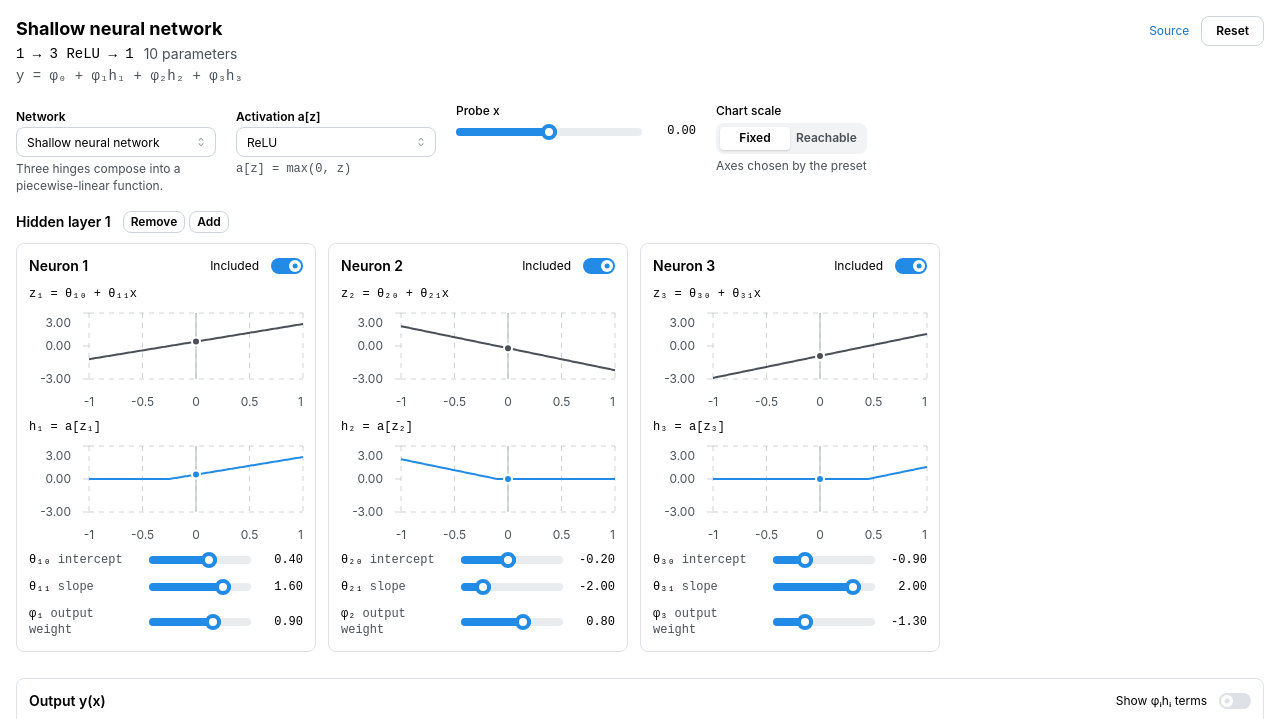
Scenario: the preset selector starts a fresh exploration of the chosen network
Click the slider named "θ₁₀ — intercept" at coordinates (209, 560), box [201, 552, 217, 568]
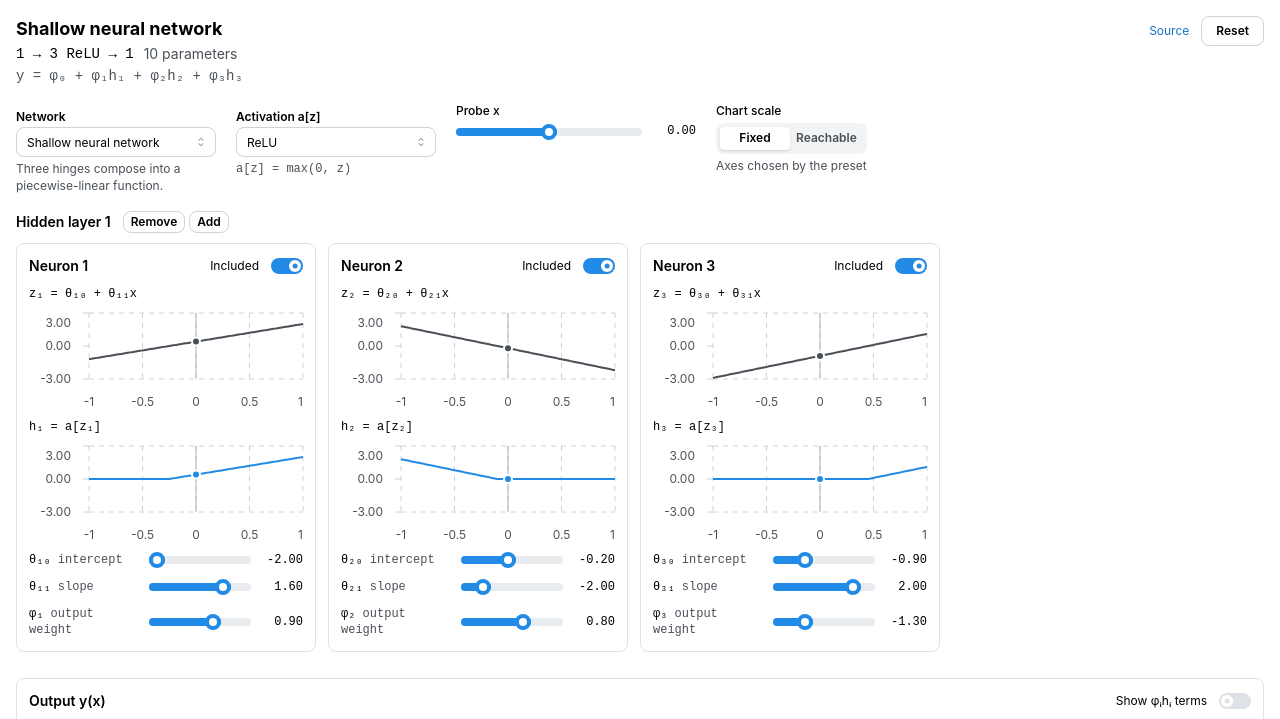
Press Arrowright Arrowright
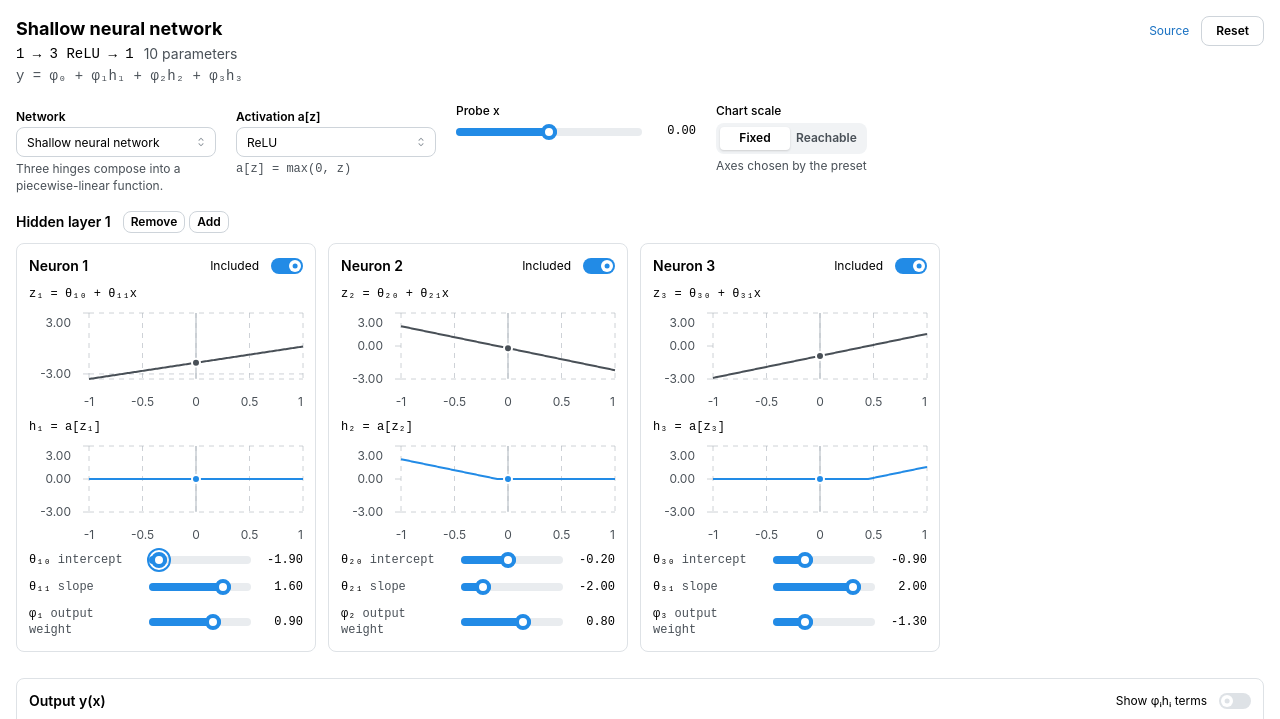
Click the switch named "Neuron 1 included" at coordinates (257, 266), box [210, 258, 303, 274]
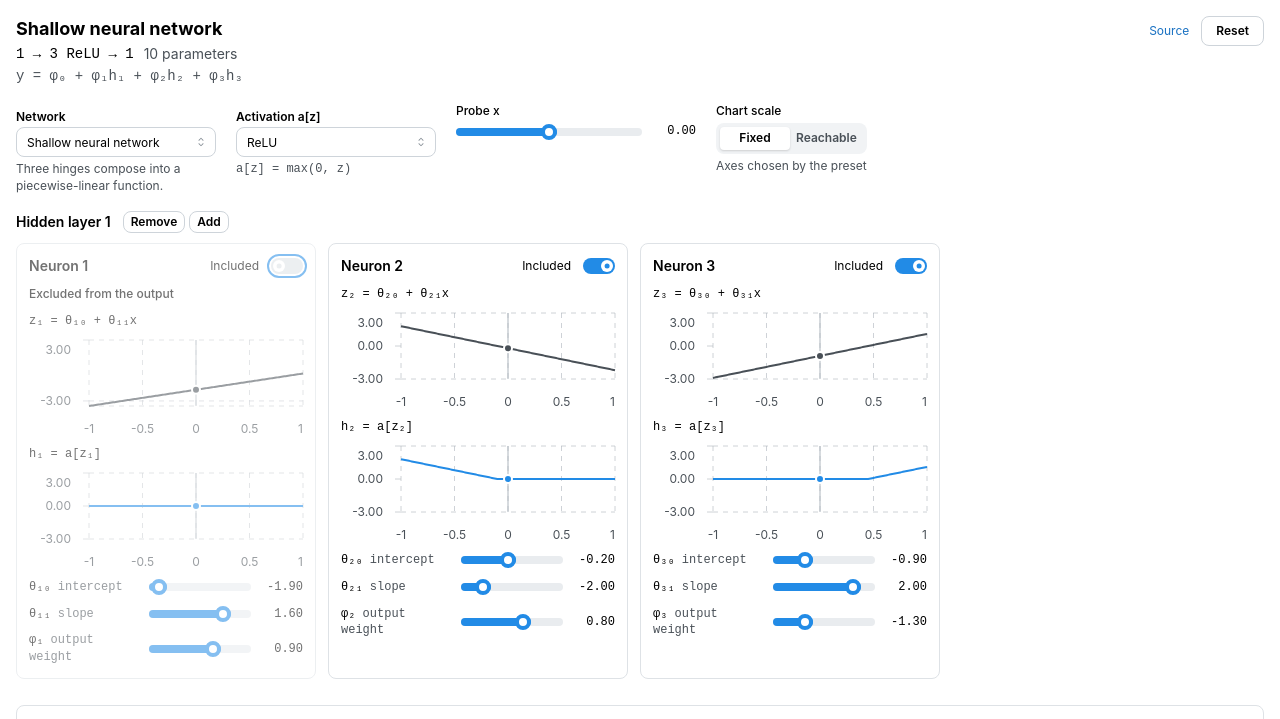
Click the dropdown labelled "Network" at coordinates (116, 142), box [16, 128, 216, 158]
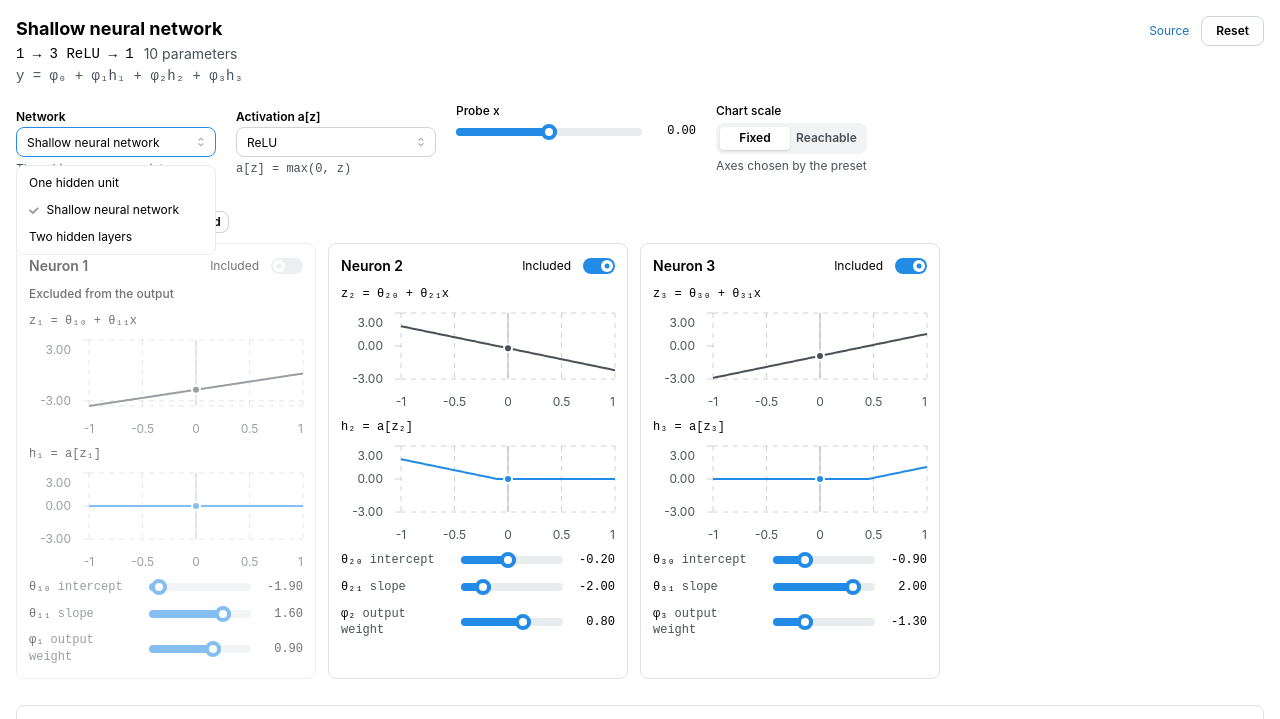
Click the option "One hidden unit" at coordinates (74, 183), box [29, 176, 119, 190]
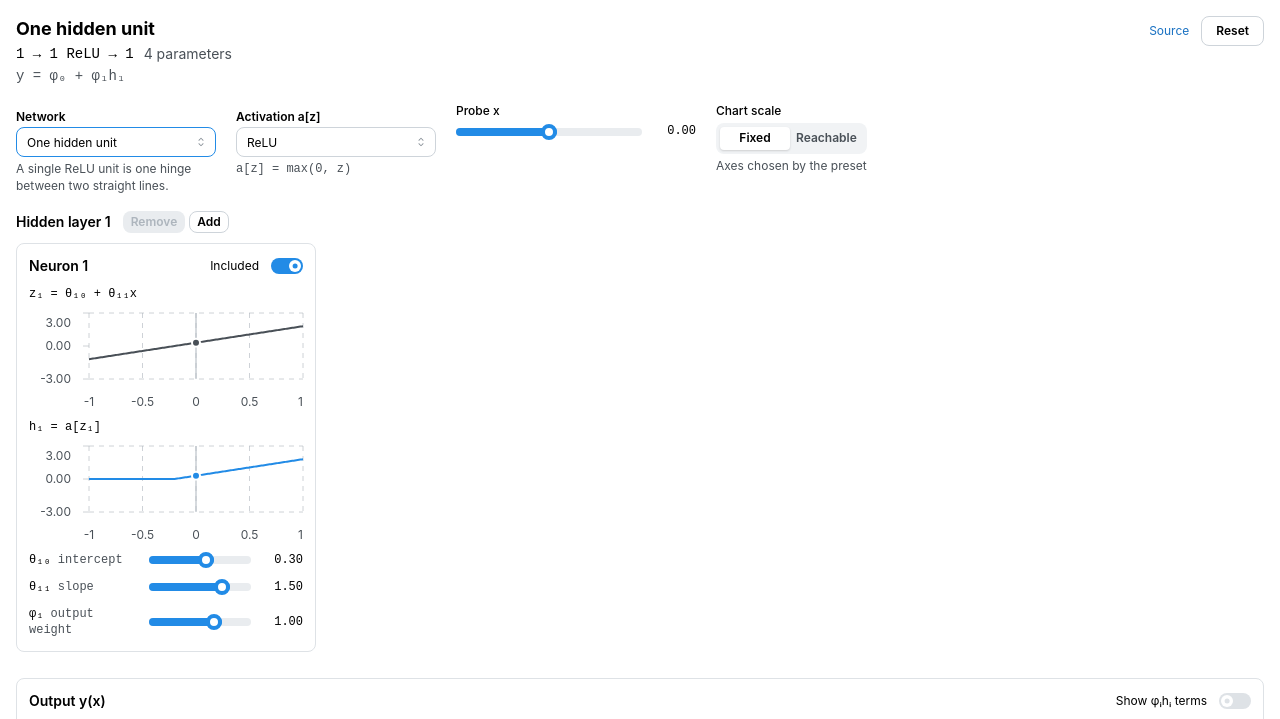
Now the heading reads "One hidden unit", box [16, 18, 155, 39]
Now the text "1 → 1 ReLU → 1" is shown, box [16, 44, 134, 64]
Now the text "4 parameters" is shown, box [144, 44, 232, 64]
